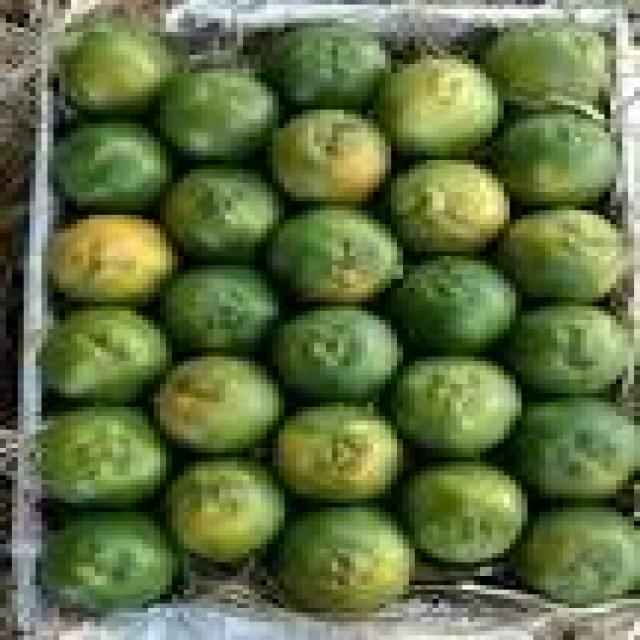orange: (273, 507, 409, 608), (41, 512, 172, 608), (267, 206, 397, 302), (36, 407, 166, 503), (510, 398, 634, 498), (373, 55, 498, 151), (391, 357, 516, 453), (510, 507, 634, 603), (403, 462, 521, 562), (41, 306, 166, 398), (166, 457, 279, 558), (273, 306, 397, 398), (385, 256, 510, 347), (154, 357, 279, 448), (273, 407, 397, 498), (47, 215, 172, 302), (160, 165, 279, 256), (498, 210, 622, 297), (504, 306, 628, 393), (59, 18, 172, 110), (53, 119, 166, 210), (391, 160, 504, 251), (273, 110, 385, 201), (160, 69, 273, 155), (267, 23, 385, 105), (160, 265, 273, 347), (486, 23, 604, 101)
